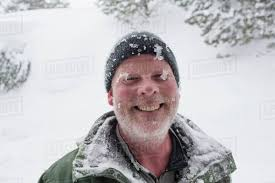white_male: (92, 45, 185, 132)
